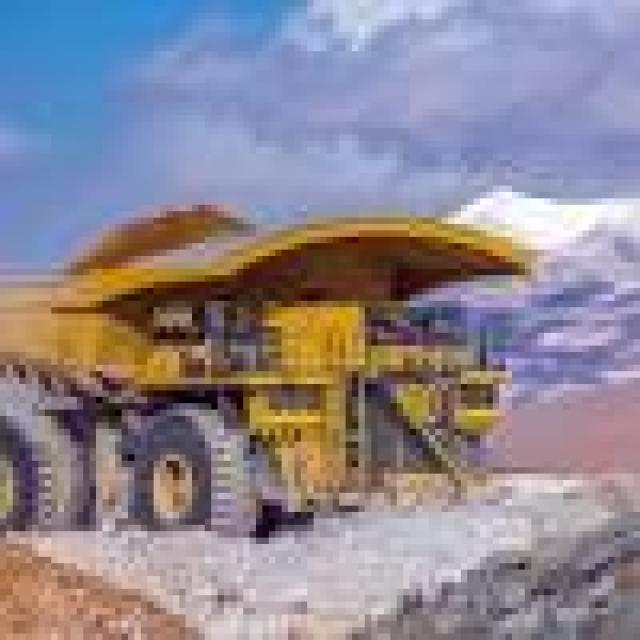dump_truck: (0, 166, 576, 576)
